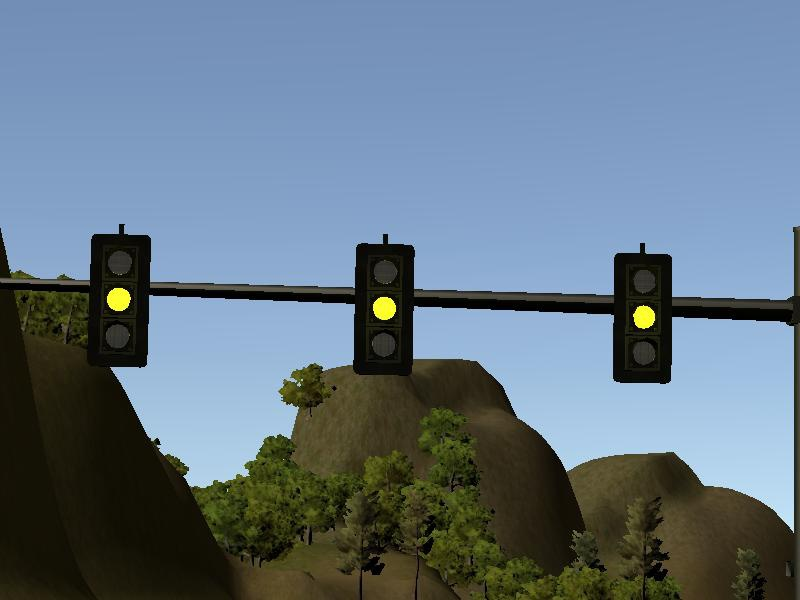Yellow: (355, 244, 413, 375), (92, 234, 148, 368), (615, 253, 670, 384)
